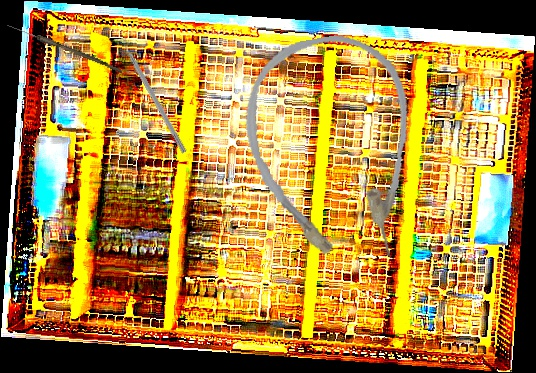Cannula: (232, 25, 434, 278)
Chopper: (117, 31, 194, 154)
Surgical Spoon: (6, 22, 124, 74)
